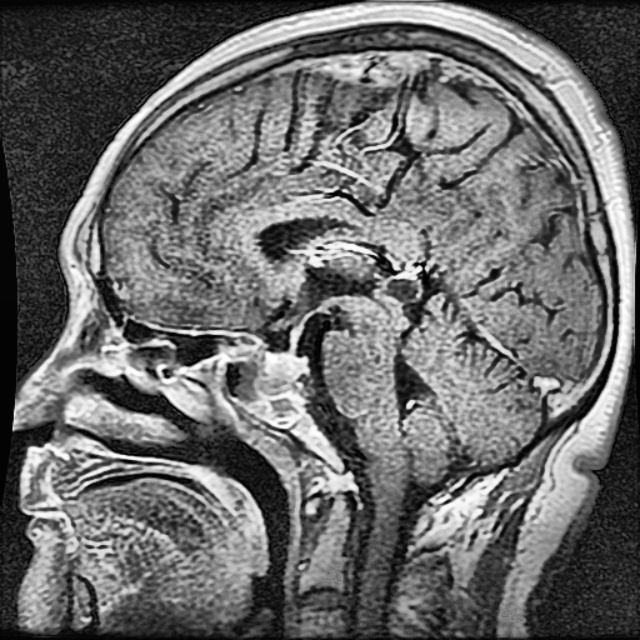Pituitary: (254, 350, 303, 397)
